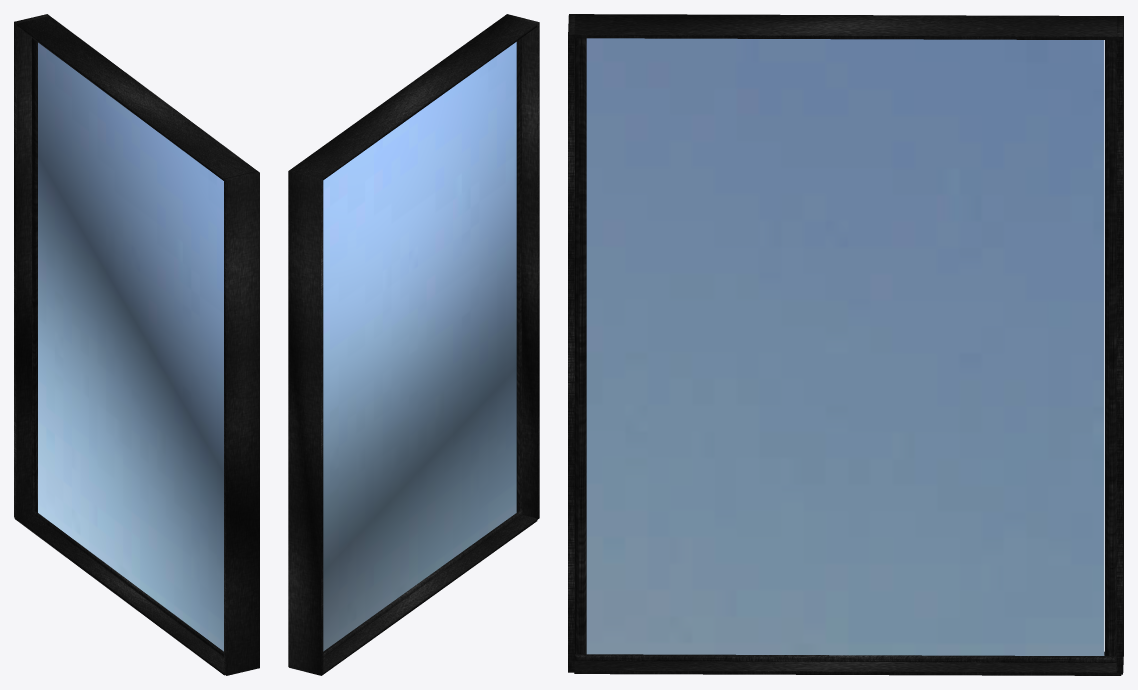
File: Ventana3.obj
The picture shows the model from 3 angles, left to right: view 1: azimuth 30°, elevation 25°; view 2: azimuth 150°, elevation 25°; view 3: azimuth 270°, elevation 25°; orthographic projection. The views are drawn at different scales.
Visible parts, largest first — view 1: polySurface75; view 2: polySurface75; view 3: polySurface75.
Part boxes in pixels (x1=…): polySurface75: x1=14, y1=14, x2=259, y2=675; polySurface75: x1=288, y1=14, x2=539, y2=675; polySurface75: x1=568, y1=14, x2=1123, y2=675.
Bounding box in the file's own units: 0.148 × 1.94 × 1.53.
2 materials, 2 textured.
